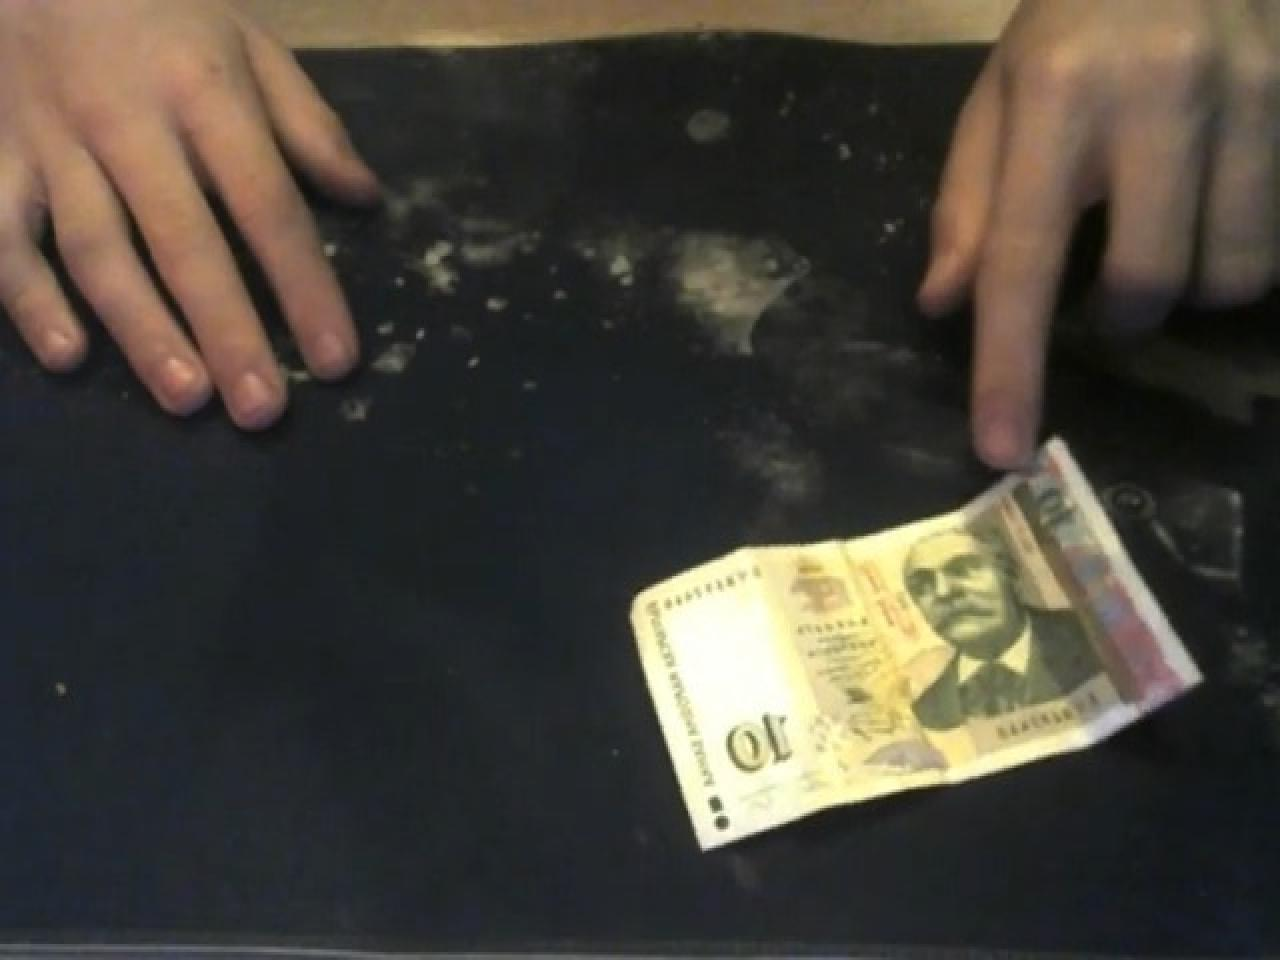10leva: (903, 528, 1104, 727), (719, 692, 801, 778)
